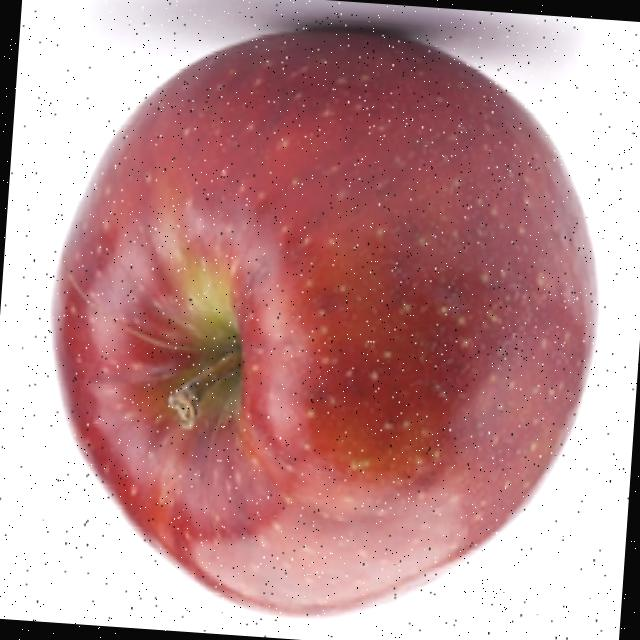Ripe: (29, 0, 620, 640)
